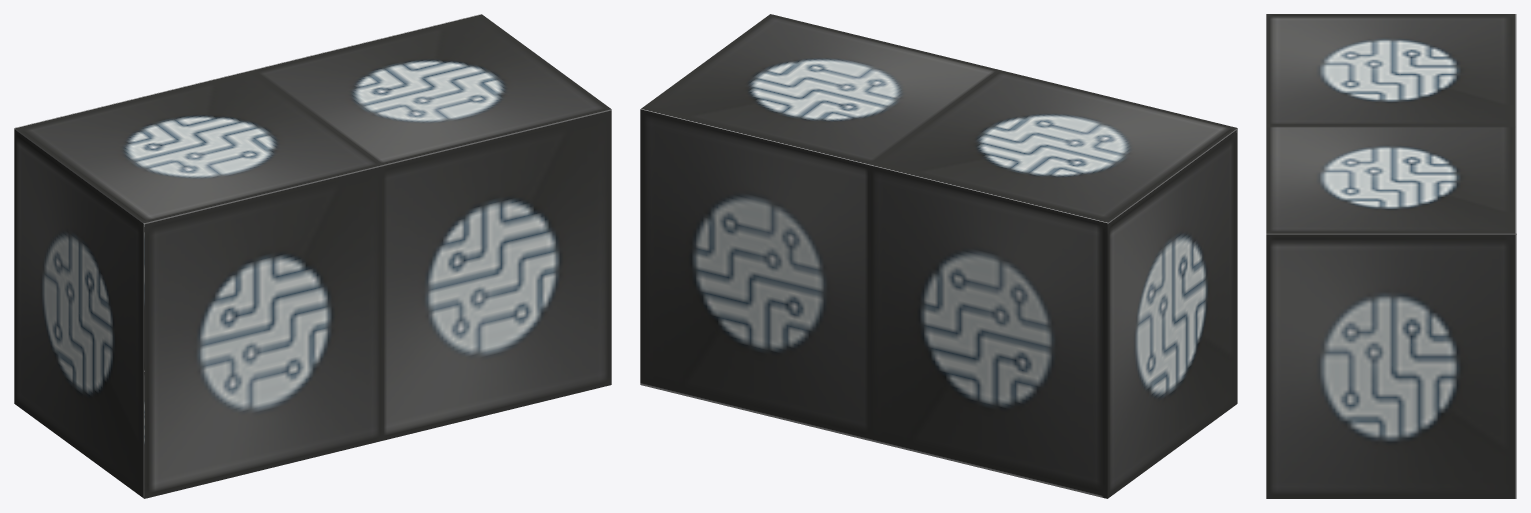
The model's file is Nivel3MPF4.fbx.
The picture shows the model from 3 angles, left to right: view 1: azimuth 30°, elevation 25°; view 2: azimuth 150°, elevation 25°; view 3: azimuth 270°, elevation 25°; orthographic projection. The views are drawn at different scales.
Parts seen in each view (by area): view 1: pCube8; view 2: pCube8; view 3: pCube8.
Part boxes in pixels (left/top/right/bottom): pCube8: left=14, top=14, right=611, bottom=498; pCube8: left=640, top=14, right=1237, bottom=498; pCube8: left=1266, top=14, right=1516, bottom=498.
Size of the model in its own units: 1.15 by 0.6508 by 0.5568.
1 material, 1 textured.
